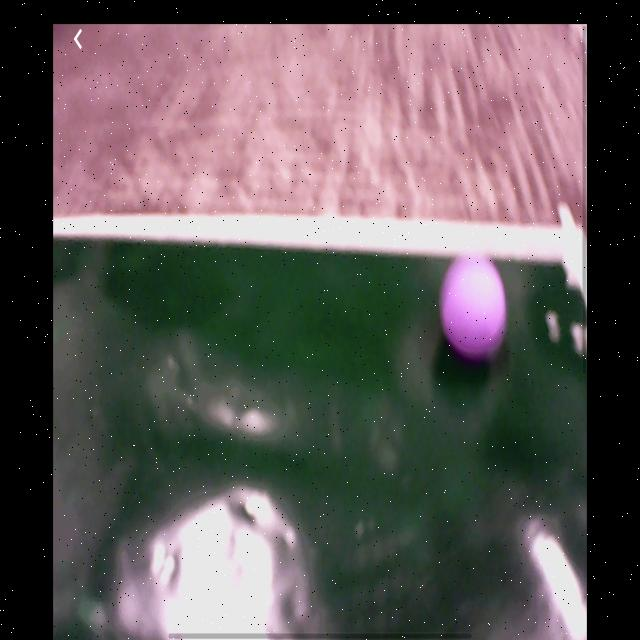ball: (439, 254, 509, 363)
